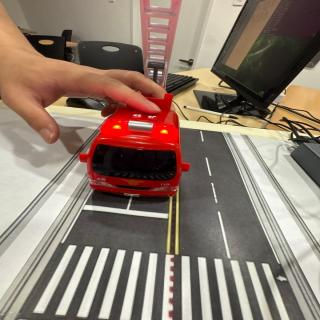Fire_truck: (79, 94, 190, 196)
